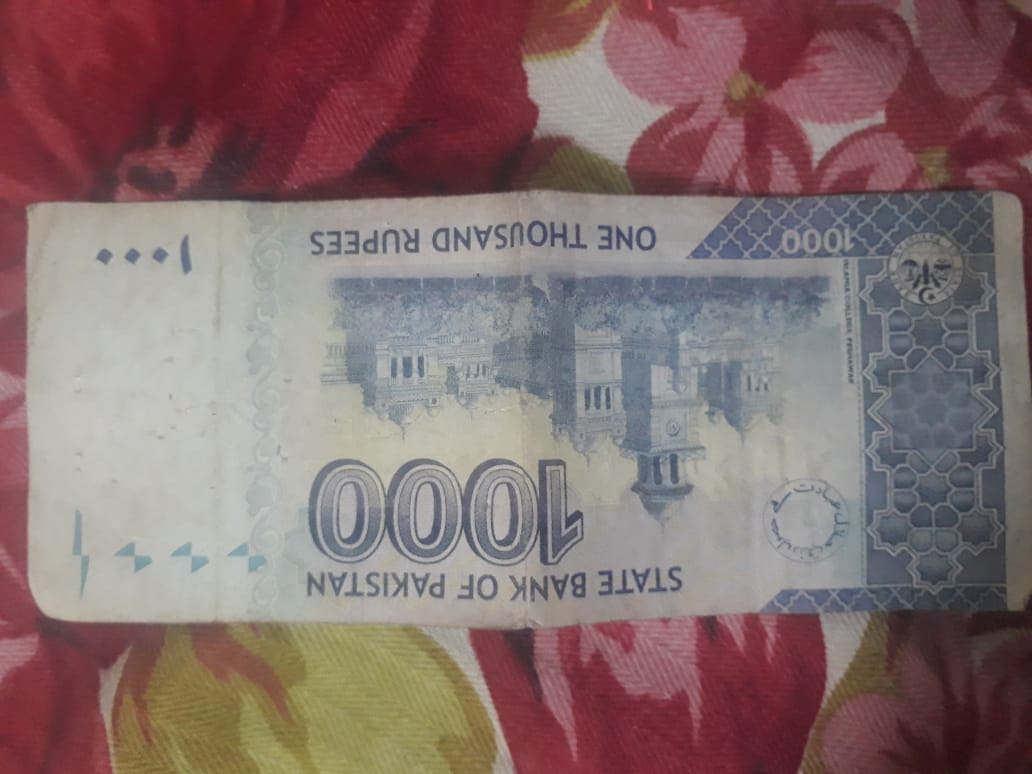1000 rupee: (4, 168, 1025, 641)
